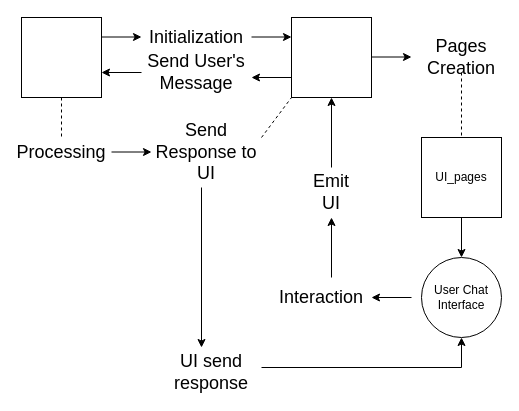
Some shapes in this 519 by 411 pixel diagram are drawn without their labels. Here are the shapes that lost their labels. From the top down, the centre of each, then its label:
pixel 61 57: EVA_main
pixel 331 57: UI
